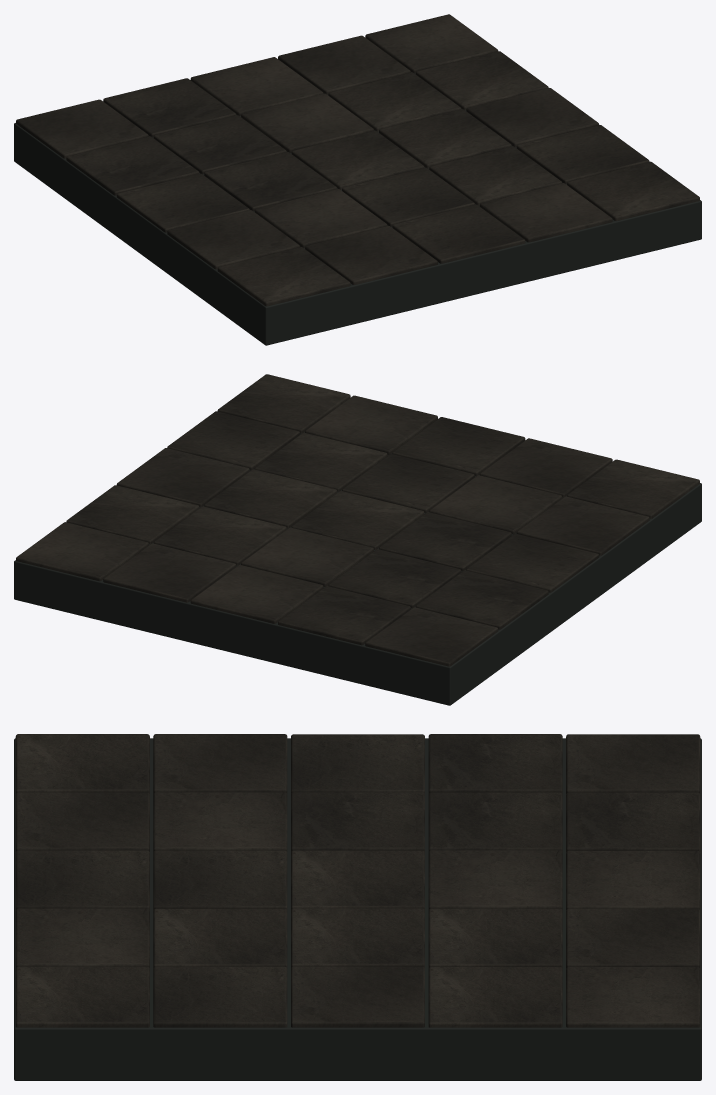
The model's file is C03_flagstone.gltf.
3 renders of one model, top to bottom at view 1: azimuth 30°, elevation 25°; view 2: azimuth 150°, elevation 25°; view 3: azimuth 270°, elevation 25°, orthographic. The views are drawn at different scales.
Visible parts, largest first — view 1: Paving base, Flagstone.020, Flagstone.023, Flagstone.022, Flagstone.024, Flagstone.021, Flagstone.005, Flagstone.013, Flagstone.015, Flagstone.007, Flagstone, Flagstone.014 (+14 smaller); view 2: Paving base, Flagstone, Flagstone.003, Flagstone.001, Flagstone.004, Flagstone.002, Flagstone.015, Flagstone.005, Flagstone.007, Flagstone.020, Flagstone.013, Flagstone.014 (+14 smaller); view 3: Paving base, Flagstone.024, Flagstone.019, Flagstone.014, Flagstone.004, Flagstone.009, Flagstone.007, Flagstone.023, Flagstone, Flagstone.005, Flagstone.008, Flagstone.015 (+14 smaller).
Boxes of the visible parts, box(x1,y1,x2,y2) form: Paving base: box(14, 72, 701, 345); Flagstone.020: box(217, 247, 350, 306); Flagstone.023: box(479, 183, 612, 242); Flagstone.022: box(392, 204, 525, 263); Flagstone.024: box(567, 161, 699, 220); Flagstone.021: box(305, 226, 437, 284); Flagstone.005: box(66, 136, 199, 195); Flagstone.013: box(379, 109, 511, 168); Flagstone.015: box(167, 210, 300, 269); Flagstone.007: box(241, 93, 373, 152); Flagstone: box(16, 99, 148, 158); Flagstone.014: box(466, 88, 599, 147); Paving base: box(14, 432, 701, 705); Flagstone: box(365, 607, 498, 666); Flagstone.003: box(103, 543, 236, 602); Flagstone.001: box(278, 586, 410, 645); Flagstone.004: box(16, 522, 148, 581); Flagstone.002: box(190, 565, 323, 623); Flagstone.015: box(516, 496, 649, 555); Flagstone.005: box(416, 570, 548, 629); Flagstone.007: box(241, 527, 373, 586); Flagstone.020: box(567, 459, 699, 518); Flagstone.013: box(204, 469, 336, 528); Flagstone.014: box(116, 448, 249, 507); Paving base: box(14, 738, 701, 1080); Flagstone.024: box(15, 966, 149, 1027); Flagstone.019: box(153, 966, 287, 1027); Flagstone.014: box(291, 966, 424, 1027); Flagstone.004: box(566, 967, 700, 1027); Flagstone.009: box(428, 967, 562, 1027); Flagstone.007: box(428, 850, 562, 910); Flagstone.023: box(15, 908, 149, 968); Flagstone: box(566, 734, 700, 793); Flagstone.005: box(428, 734, 562, 793); Flagstone.008: box(428, 908, 562, 968); Flagstone.015: box(153, 734, 287, 793).
Size of the model in its own units: 4 by 0.3753 by 4.
3 materials, 2 textured.
